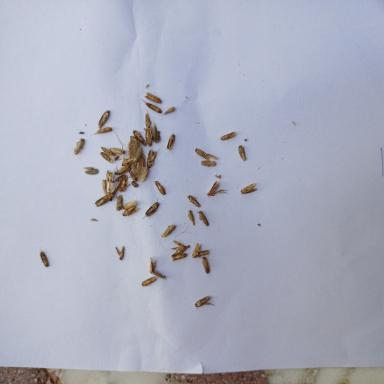pbw: (207, 181, 229, 196), (142, 202, 160, 220), (130, 135, 144, 157), (141, 100, 162, 114), (146, 147, 160, 167), (194, 295, 215, 308), (171, 240, 188, 255), (161, 222, 176, 237), (98, 110, 111, 127), (144, 92, 162, 104), (120, 174, 132, 192), (153, 180, 166, 196), (133, 130, 146, 146), (114, 164, 131, 176), (135, 158, 145, 178), (240, 183, 258, 194), (94, 194, 109, 206), (143, 128, 153, 146), (200, 256, 210, 274), (194, 148, 209, 160), (140, 276, 158, 286), (198, 210, 209, 226), (74, 138, 85, 154), (122, 206, 139, 216), (100, 152, 114, 164), (152, 122, 160, 143), (187, 194, 201, 206), (100, 146, 115, 157), (166, 132, 175, 150), (144, 108, 152, 128), (139, 166, 149, 182), (151, 270, 167, 280), (220, 131, 237, 140), (115, 194, 124, 211), (122, 199, 137, 209), (115, 246, 125, 261), (192, 243, 202, 258), (238, 145, 247, 161), (148, 257, 157, 273), (121, 156, 137, 165), (187, 209, 195, 226), (172, 252, 188, 260), (40, 251, 48, 267), (127, 167, 136, 181), (96, 127, 113, 134), (163, 106, 176, 115), (110, 147, 126, 154), (84, 169, 99, 175), (201, 160, 216, 166), (197, 250, 210, 256), (102, 178, 106, 194)
